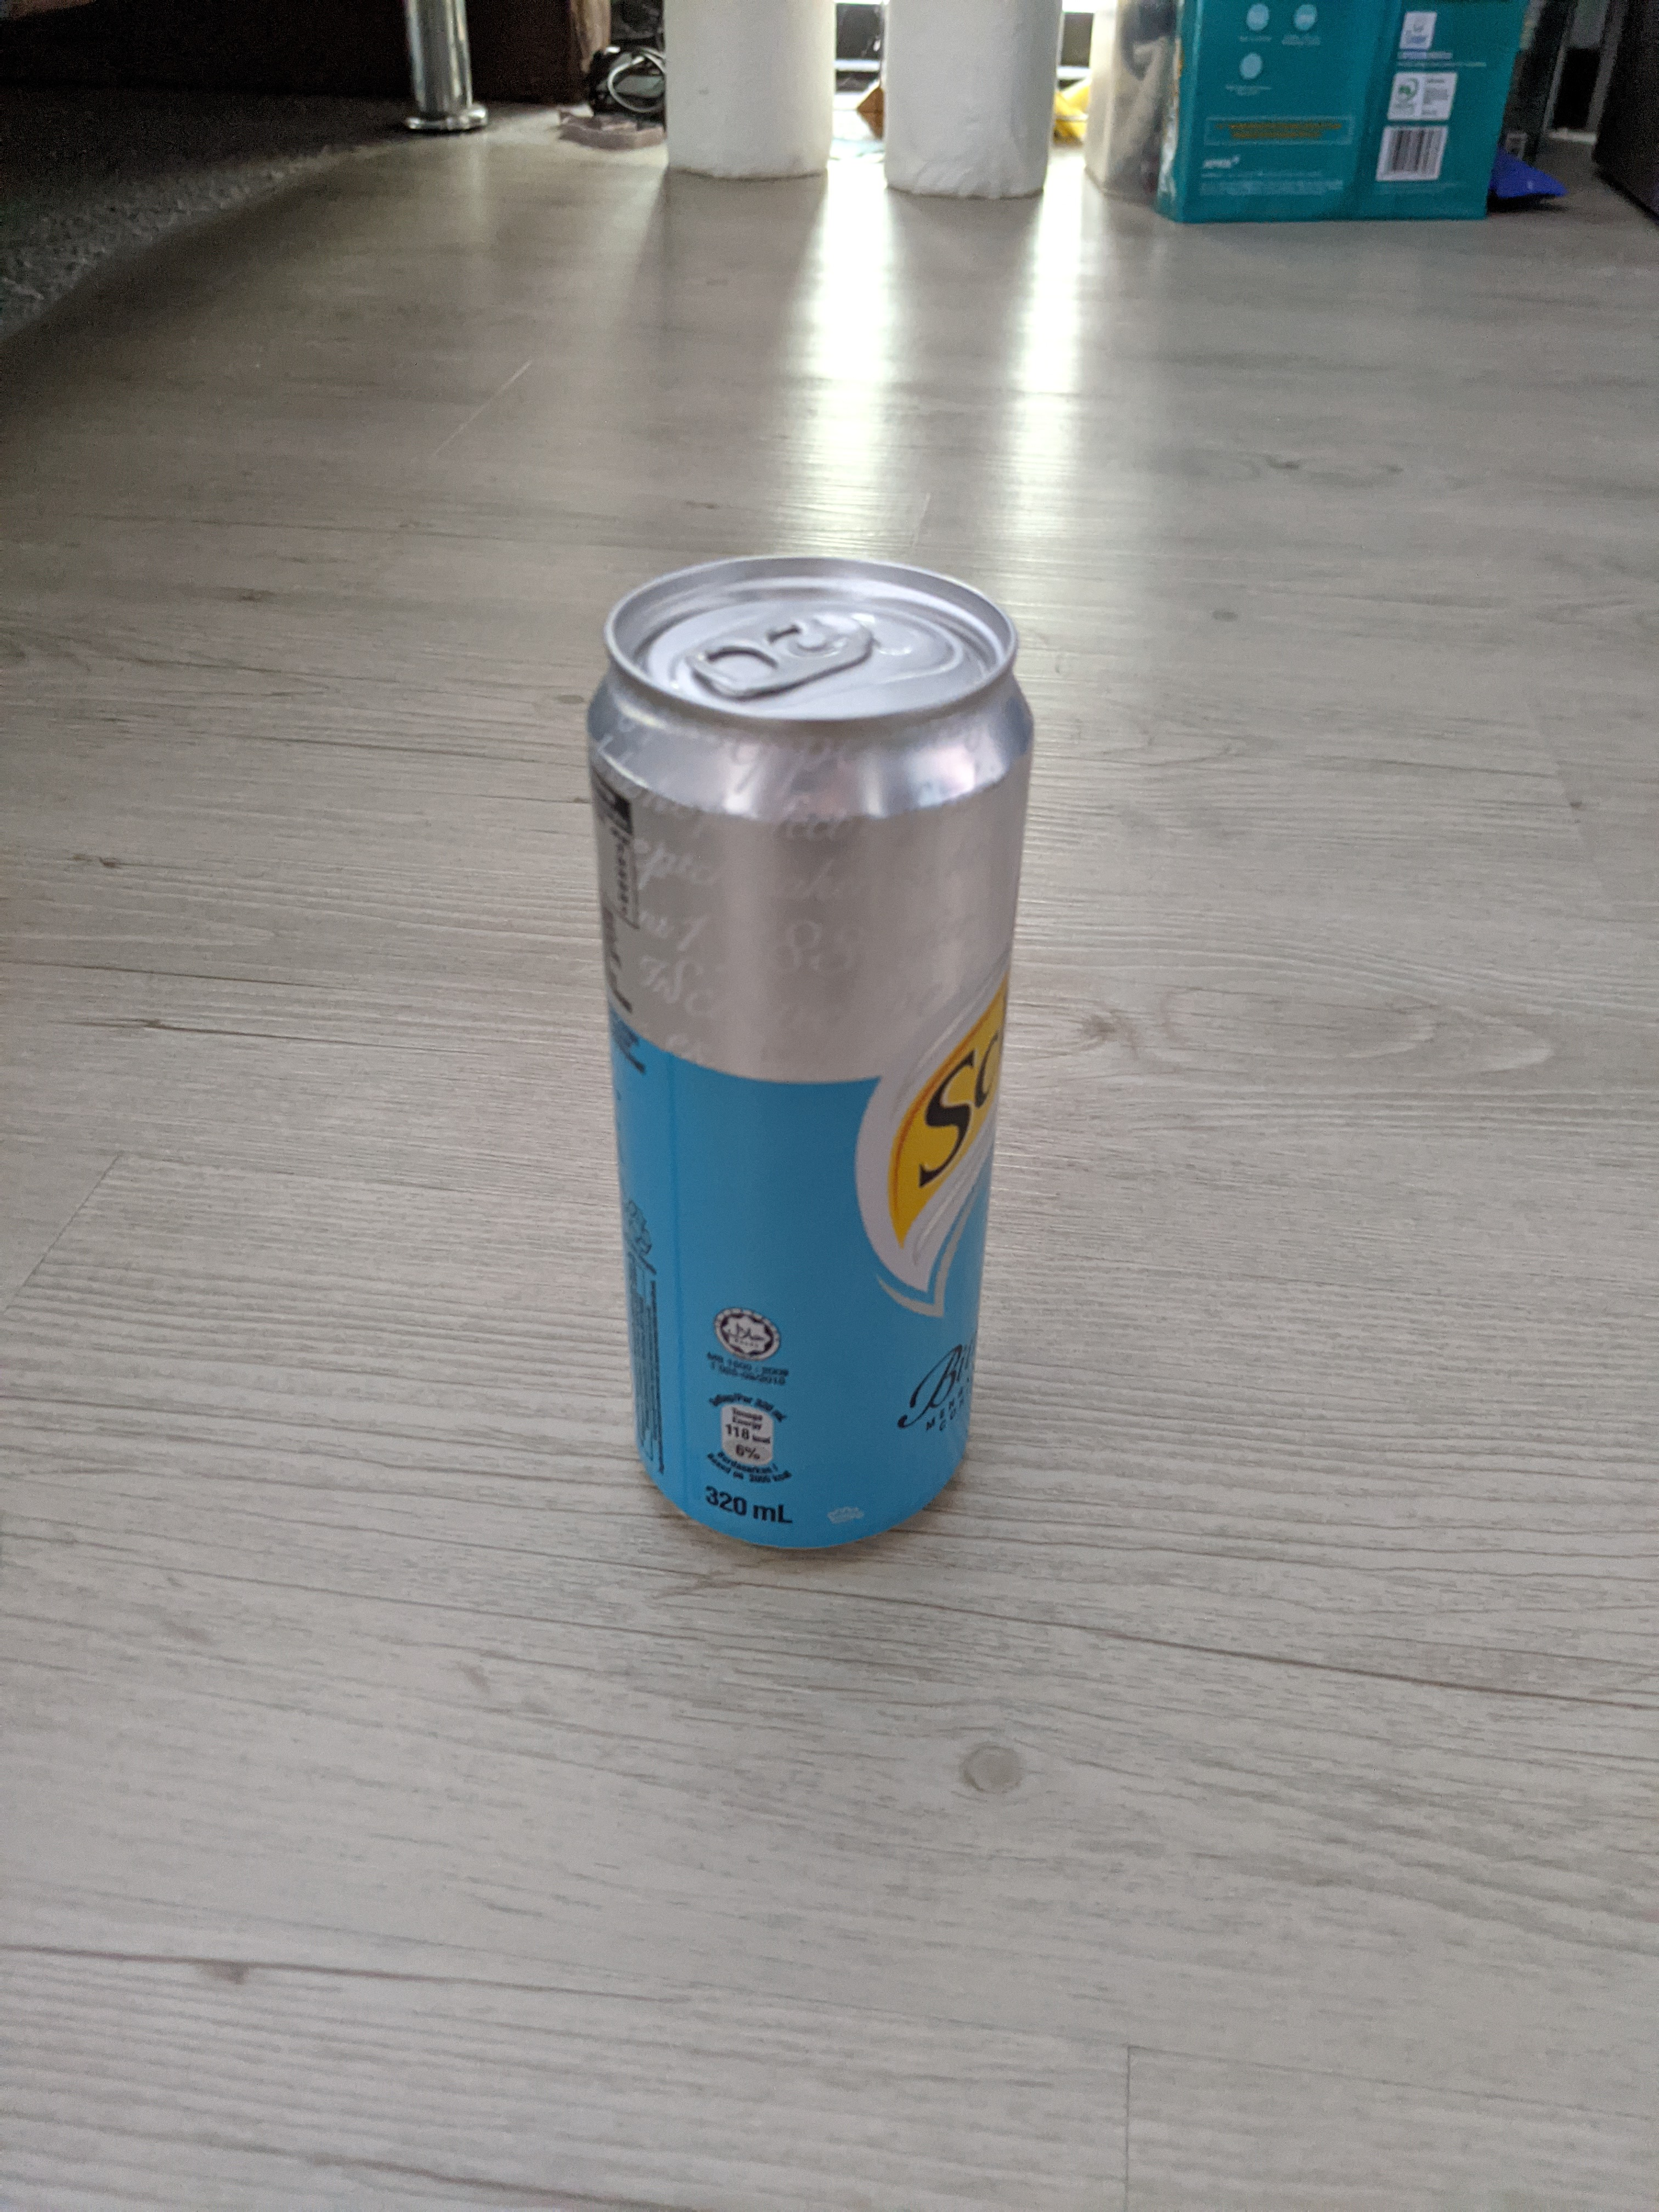schweppes drink can bitter lemon: (570, 545, 1044, 1580)
